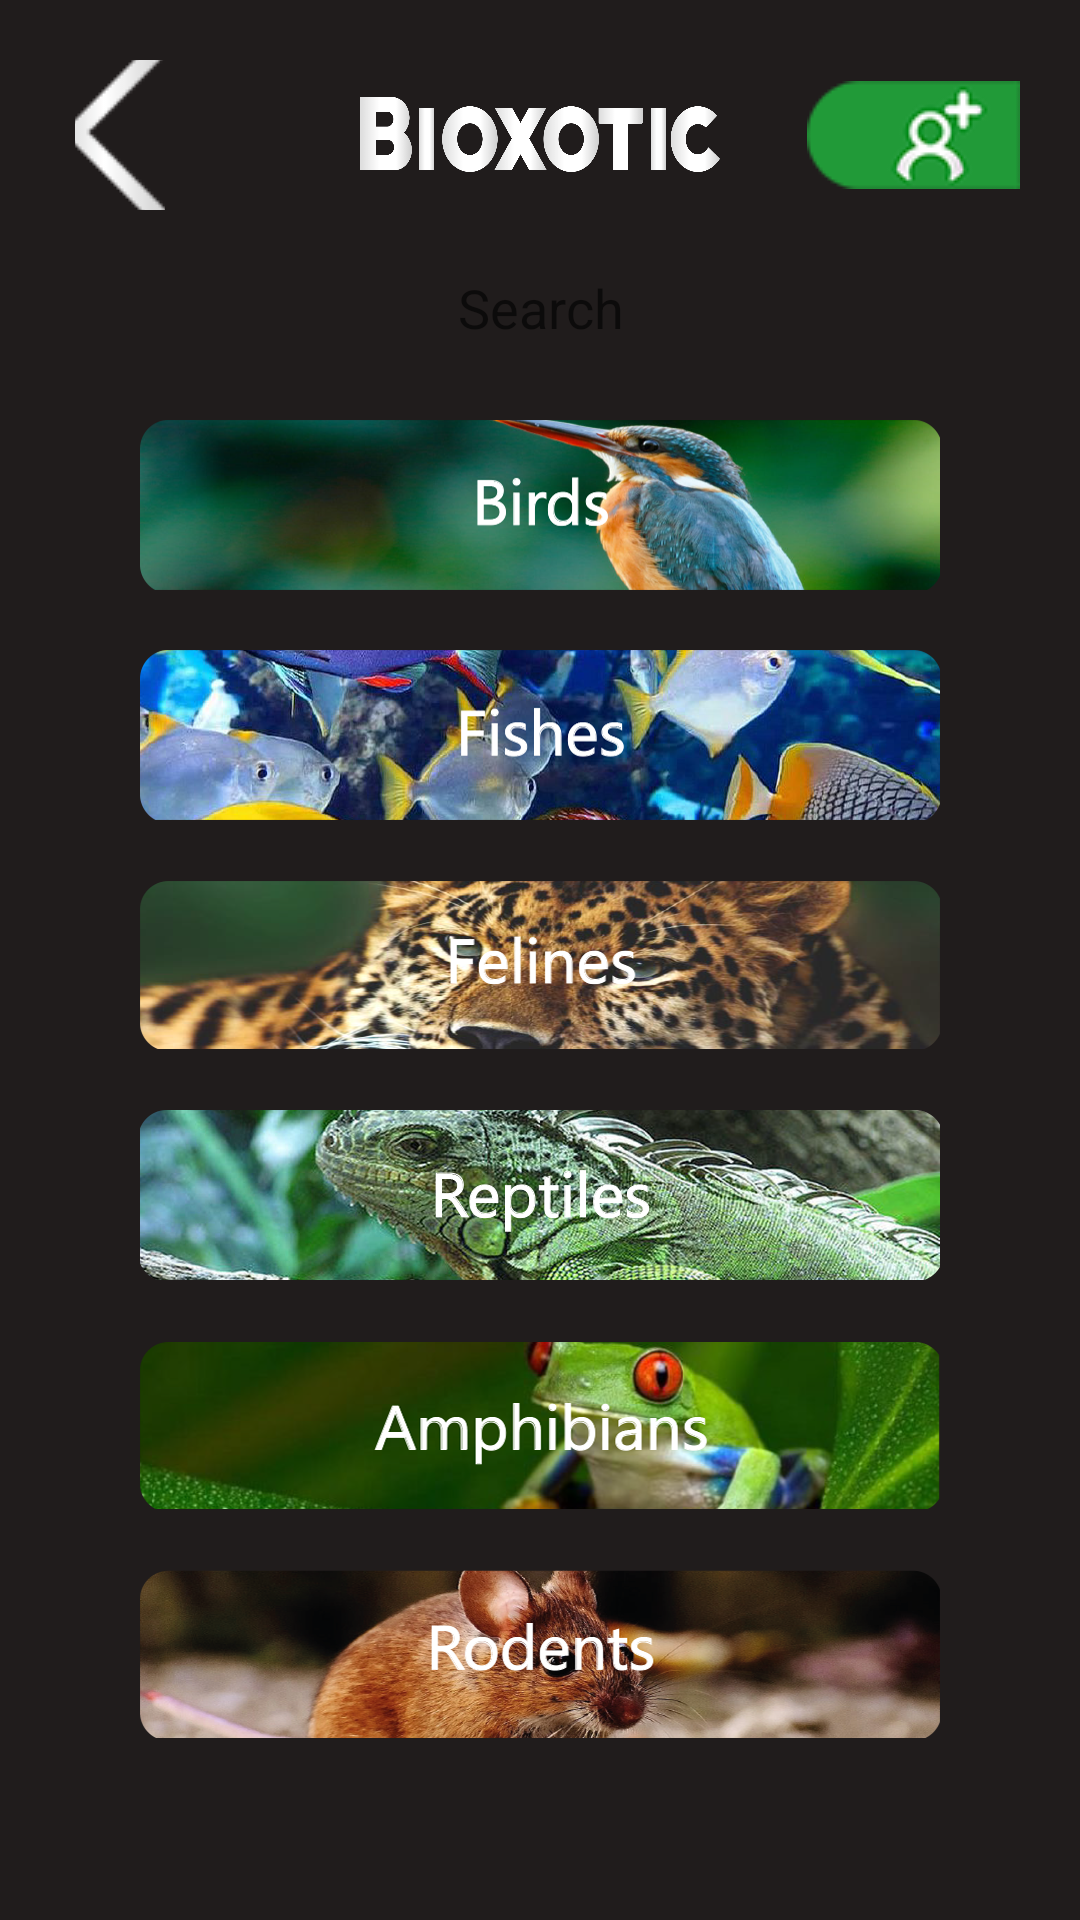

Icon click points for this 1080x1920 phone screenshot, format (x=x, y=y):
back: (x=120, y=135)
